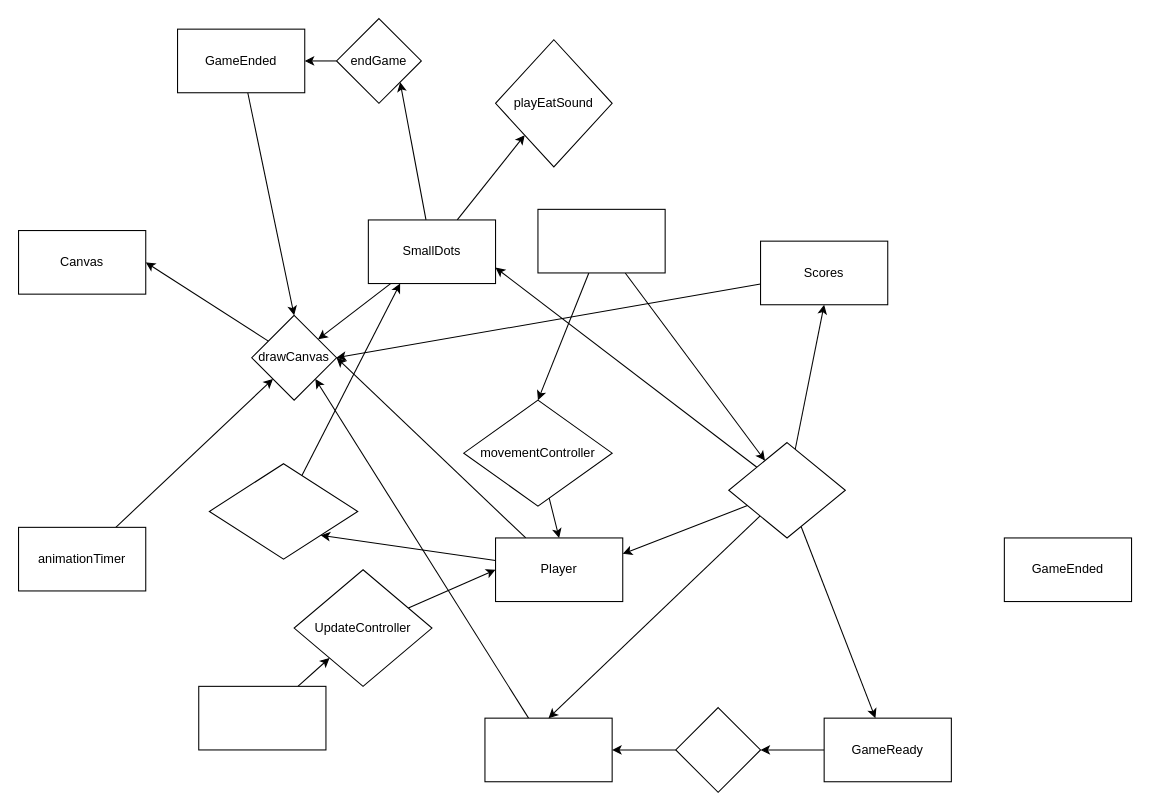
The diagram is 1150 pixels wide and 811 high, and some of its shapes have lost their labels. The centre of each missing label's shape, as x and y in pixels:
"CollisionsController" goes at (283,511).
"GameStarted" goes at (548,749).
"keyPress" goes at (601,240).
"PrepareGame" goes at (718,749).
"RestartGame" goes at (786,489).
"UpdateTimer" goes at (262,717).
